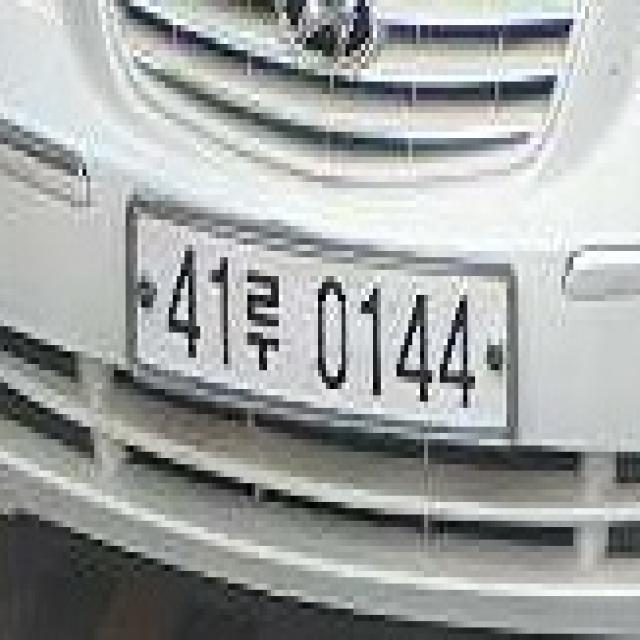0: (310, 270, 350, 395)
1: (357, 276, 385, 395), (208, 251, 232, 370)
4: (389, 282, 436, 408), (432, 295, 479, 408), (161, 245, 204, 364)
license_plate: (122, 201, 514, 439)
lu: (240, 270, 282, 376)
